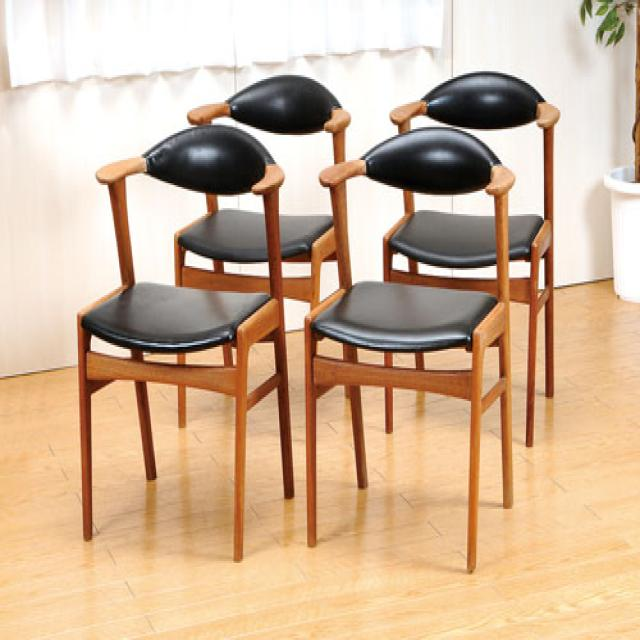chair vintage: (70, 121, 300, 572)
